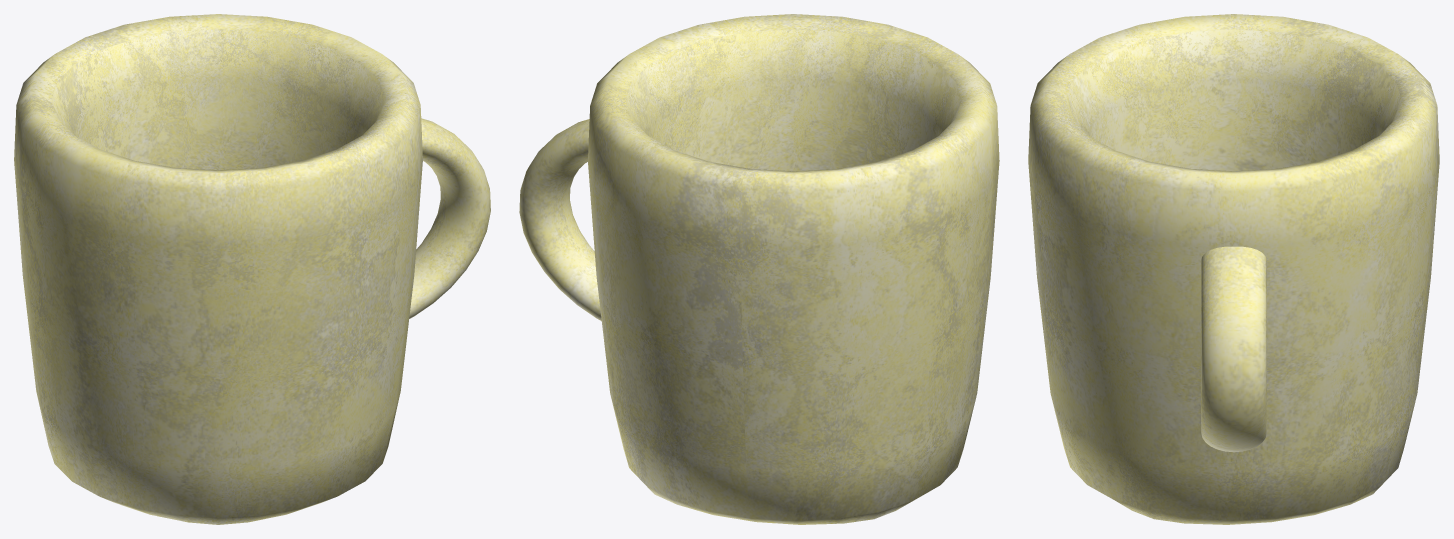
The model's file is Mug.fbx.
3 views of the same model, side by side, from view 1: azimuth 30°, elevation 25°; view 2: azimuth 150°, elevation 25°; view 3: azimuth 270°, elevation 25° (orthographic).
Parts seen in each view (by area): view 1: Cylinder; view 2: Cylinder; view 3: Cylinder.
Part boxes in pixels (x1,y1,x2,y2): Cylinder: [14, 14, 490, 524]; Cylinder: [519, 14, 999, 524]; Cylinder: [1028, 14, 1439, 524].
Bounding box in the file's own units: 30.27 × 24.01 × 24.17.
Materials: 1 (1 with a texture image).
